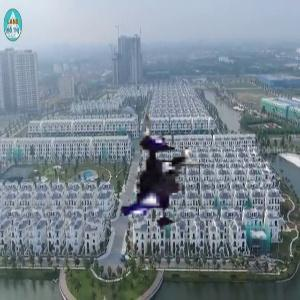drone: (56, 103, 216, 263)
